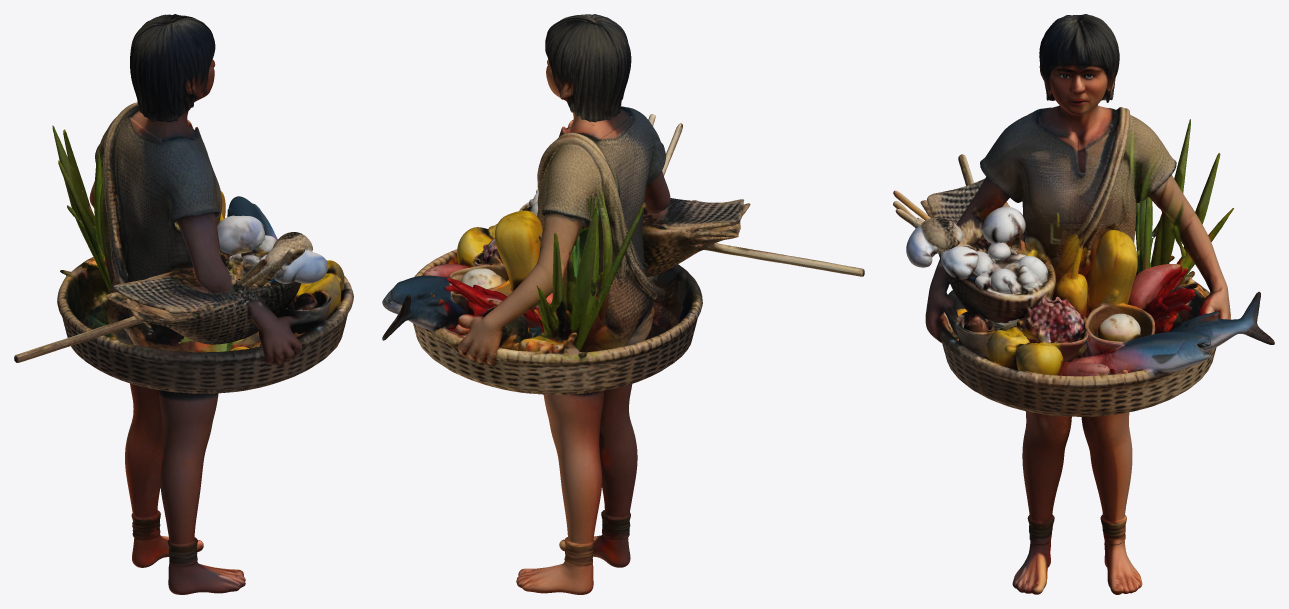
File: economia_caral.glb
3 renders of one model, left to right at view 1: azimuth 30°, elevation 25°; view 2: azimuth 150°, elevation 25°; view 3: azimuth 270°, elevation 25°, orthographic.
Visible parts, largest first — view 1: tripo_node_cb53685b-1333-4715-99cd-3fe1618728ac; view 2: tripo_node_cb53685b-1333-4715-99cd-3fe1618728ac; view 3: tripo_node_cb53685b-1333-4715-99cd-3fe1618728ac.
Boxes of the visible parts, x1,y1,x2,y2 form: tripo_node_cb53685b-1333-4715-99cd-3fe1618728ac: (14, 14, 353, 594); tripo_node_cb53685b-1333-4715-99cd-3fe1618728ac: (382, 14, 864, 594); tripo_node_cb53685b-1333-4715-99cd-3fe1618728ac: (893, 14, 1274, 594).
Bounding box in the file's own units: 0.7106 × 1 × 0.6251.
Materials: 1 (1 with a texture image).
